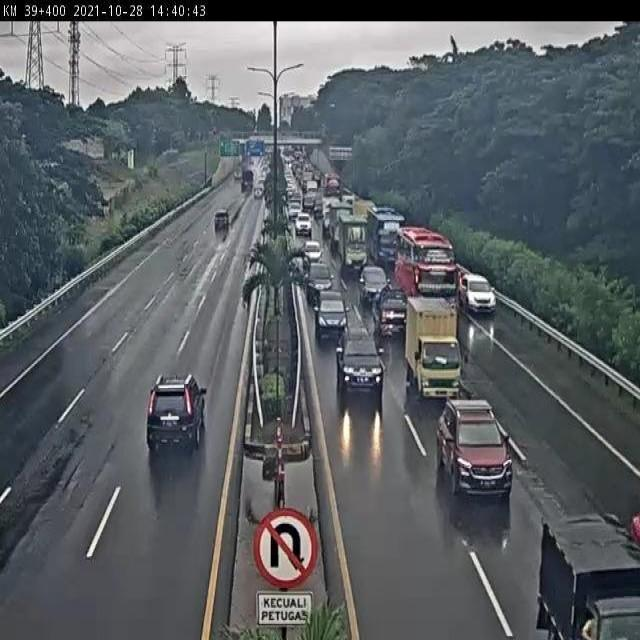Car: (415, 371, 543, 512), (146, 372, 207, 453), (336, 327, 385, 409), (373, 284, 408, 339), (313, 291, 348, 344), (458, 272, 496, 316), (304, 262, 335, 306), (359, 264, 388, 307), (302, 240, 322, 264), (295, 212, 312, 235), (214, 210, 229, 233)
Truck: (404, 296, 460, 400), (394, 226, 457, 301), (577, 593, 640, 640), (366, 206, 405, 268), (336, 212, 368, 277), (599, 512, 640, 562), (261, 439, 310, 477), (326, 201, 355, 252), (464, 308, 495, 350), (535, 596, 564, 640), (342, 322, 376, 358), (241, 255, 262, 302), (285, 274, 299, 338), (64, 137, 103, 159), (282, 156, 299, 200), (322, 197, 340, 233), (351, 198, 375, 224), (309, 148, 330, 175), (304, 278, 319, 310), (289, 254, 305, 283), (269, 166, 285, 195), (262, 452, 278, 481), (324, 172, 340, 197), (328, 146, 353, 162), (335, 332, 344, 372), (157, 149, 180, 164), (379, 220, 402, 235), (241, 167, 254, 192), (248, 246, 260, 273), (372, 206, 399, 218), (303, 190, 317, 213), (170, 130, 186, 150), (248, 138, 264, 156), (256, 152, 269, 174), (287, 202, 301, 222), (291, 158, 303, 181), (39, 159, 62, 171), (604, 512, 622, 527), (302, 168, 314, 190), (300, 250, 311, 274), (330, 228, 340, 254), (322, 212, 332, 238), (178, 258, 191, 278), (304, 178, 318, 195), (314, 198, 324, 220), (230, 138, 245, 152), (232, 207, 242, 226), (263, 189, 271, 212), (265, 142, 279, 154), (263, 203, 271, 223), (95, 204, 106, 218), (242, 289, 249, 311), (321, 121, 329, 140), (276, 143, 286, 158), (313, 172, 322, 188), (343, 193, 354, 206), (280, 117, 291, 130), (219, 136, 228, 151), (208, 127, 219, 139), (293, 148, 303, 161), (282, 152, 292, 165), (128, 149, 134, 170), (254, 186, 264, 198), (343, 185, 352, 197), (205, 175, 213, 188), (248, 156, 256, 168), (234, 168, 241, 181), (253, 122, 259, 136), (330, 273, 336, 282)
